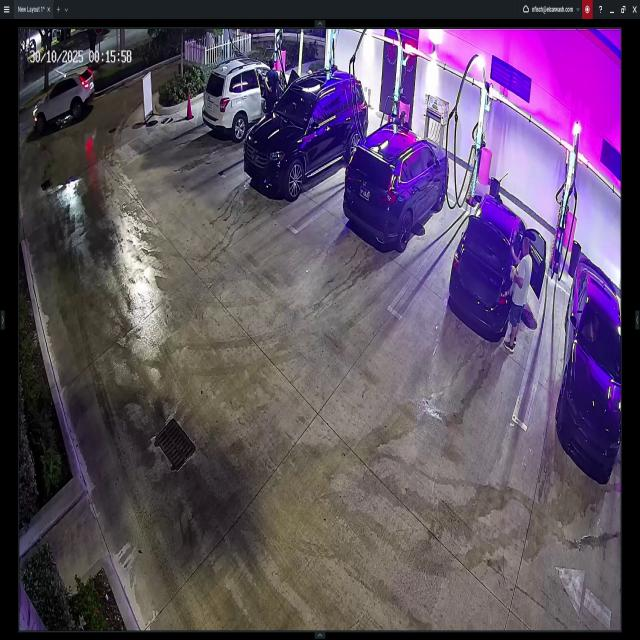Car: (246, 66, 366, 200), (558, 256, 628, 474), (451, 191, 545, 343), (344, 122, 450, 249), (202, 55, 292, 142), (30, 69, 94, 128)
